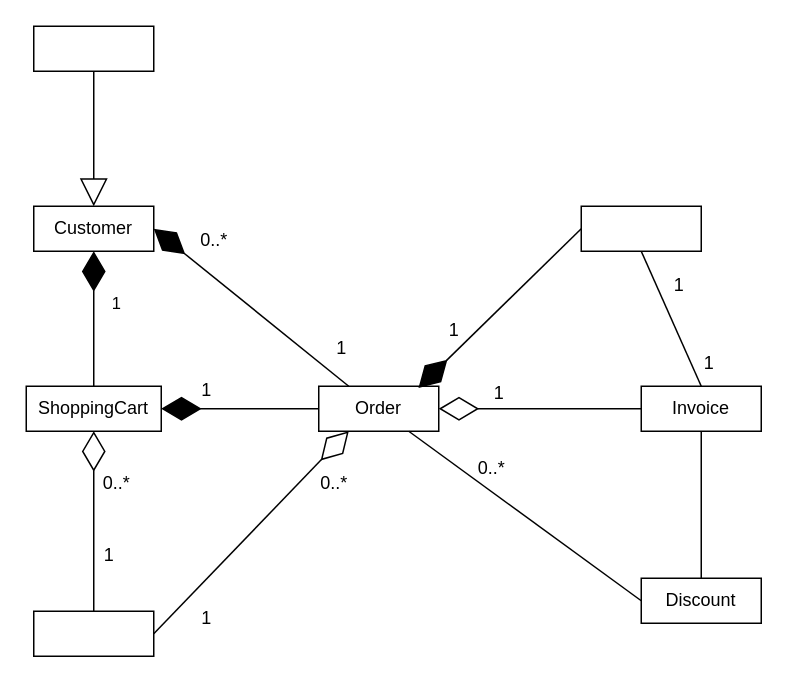
This 788x699 diagram has some shape labels left out. The centre of each missing label's shape, as x and y in pixels:
"Ebook" belongs at point 93,633.
"Payment" belongs at point 640,228.
"VIPCustomer" belongs at point 93,48.
